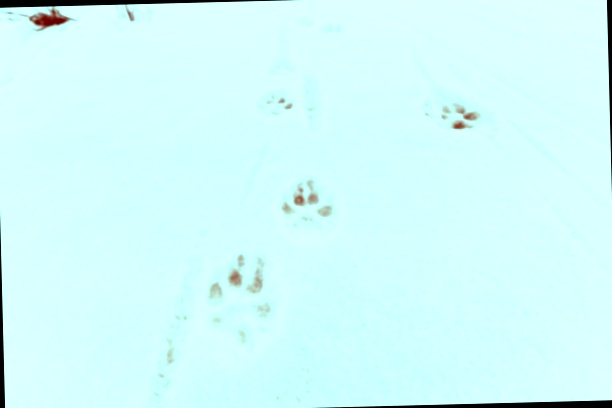loup: (190, 246, 288, 358), (269, 165, 351, 247), (416, 74, 491, 140), (244, 84, 303, 120), (263, 41, 302, 83)
